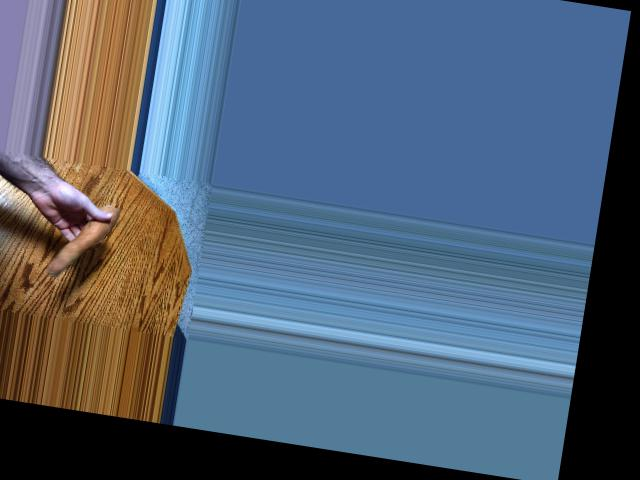sweet_potato: (44, 197, 116, 284)
